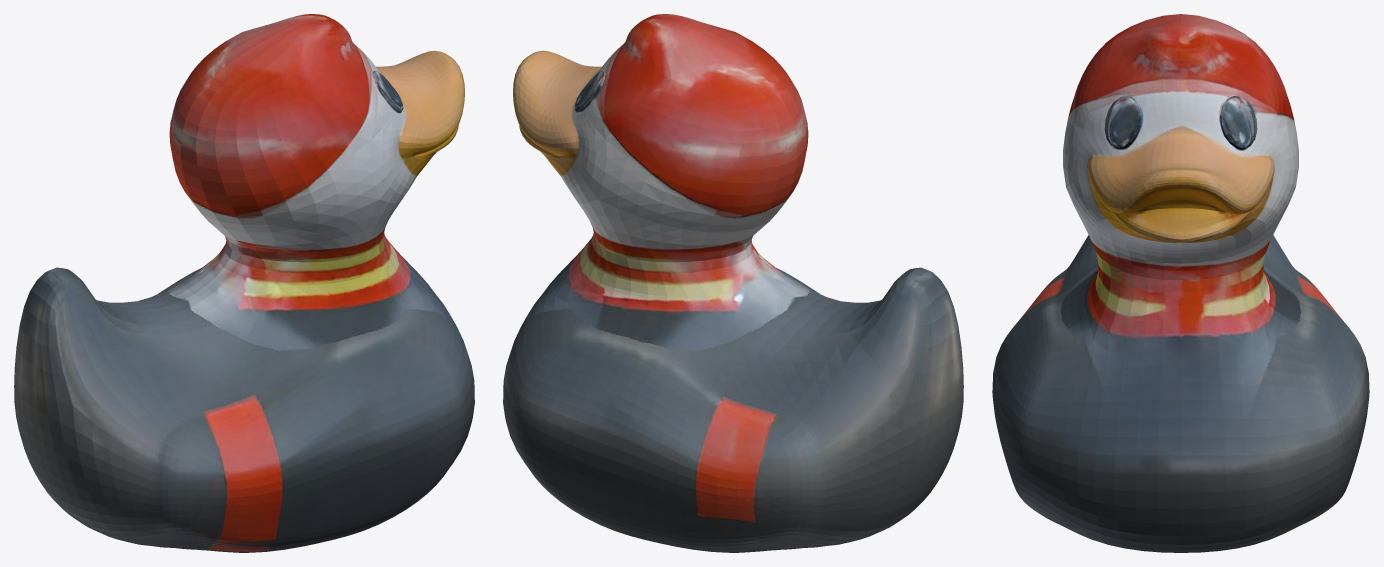
File: firefighterV2.glb
3 views of the same model, side by side, from view 1: azimuth 30°, elevation 25°; view 2: azimuth 150°, elevation 25°; view 3: azimuth 270°, elevation 25° (orthographic). The views are drawn at different scales.
Parts seen in each view (by area): view 1: mvadapter_node_firefighterV2; view 2: mvadapter_node_firefighterV2; view 3: mvadapter_node_firefighterV2.
Part boxes in pixels (x1,y1,x2,y2): mvadapter_node_firefighterV2: (14, 14, 474, 552); mvadapter_node_firefighterV2: (503, 14, 963, 552); mvadapter_node_firefighterV2: (992, 14, 1369, 552).
Bounding box in the file's own units: 101 × 104 × 74.23.
Materials: 1 (1 with a texture image).
